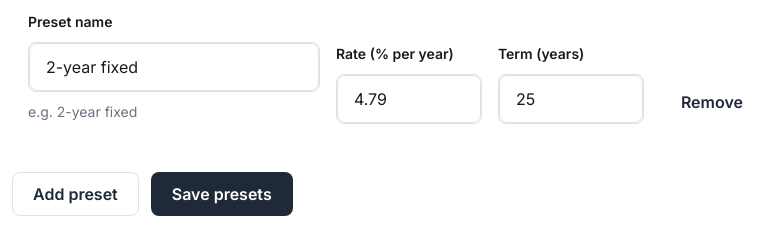
it: MortgagePresetEditor › can remove a preset row
Click the button "Remove" at (712, 102), box [660,80,764,124]
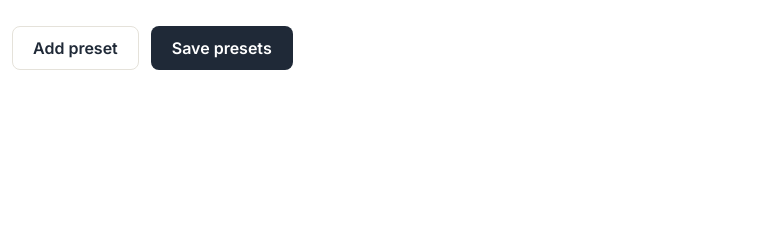
Now the text showing "2-year fixed" is gone
